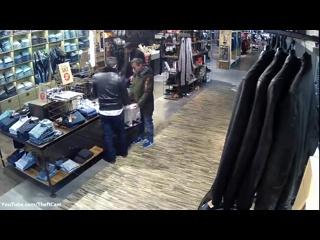Normal: (120, 42, 146, 80)
shoplifting: (91, 56, 133, 164), (128, 58, 154, 149)
